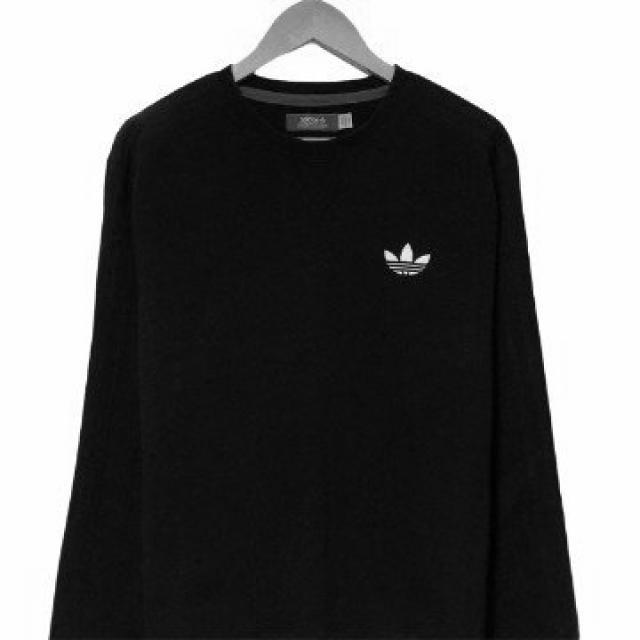Adidas: (366, 213, 446, 298)
